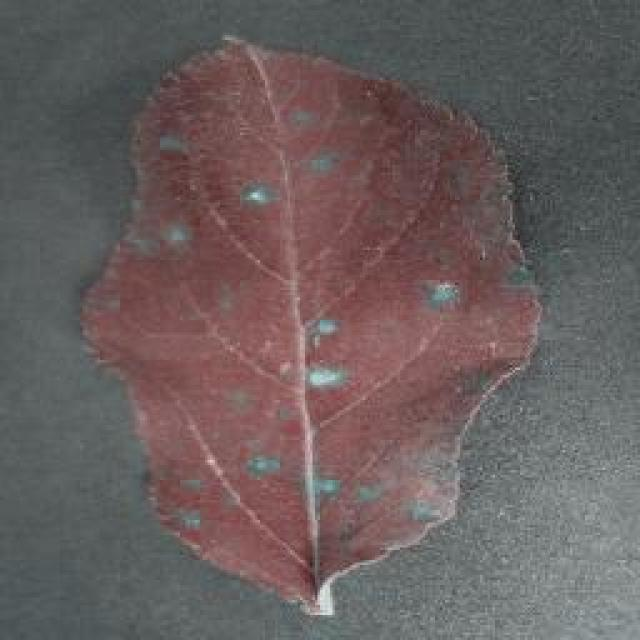Apple___Cedar_apple_rust: (75, 29, 545, 618)
